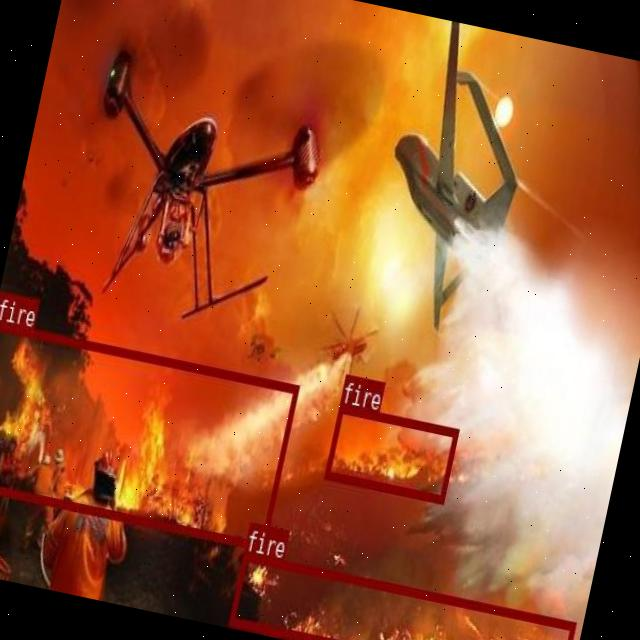fire: (0, 319, 299, 549), (228, 552, 576, 640), (323, 403, 458, 502)
